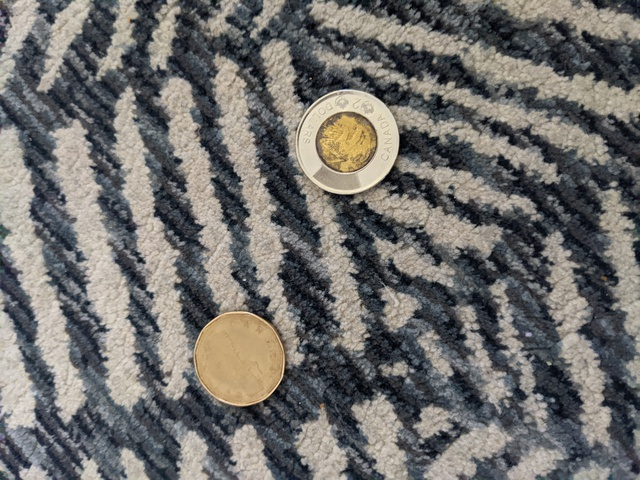loonie: (184, 305, 292, 409)
twonie: (293, 75, 403, 194)
